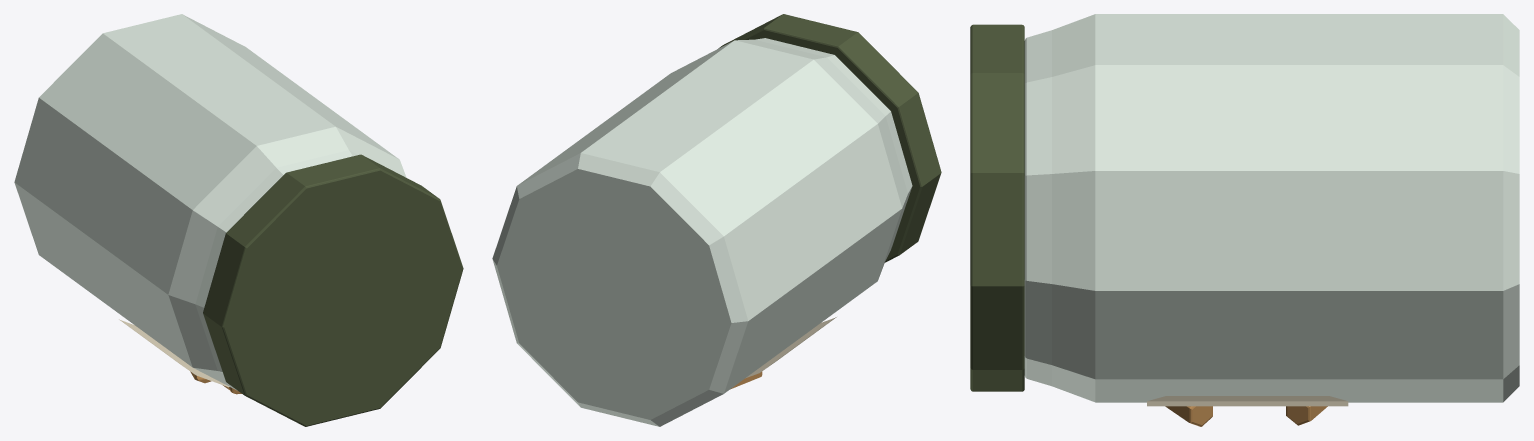
Rendered from cashew_butter.glb.
3 views of the same model, side by side, from view 1: azimuth 30°, elevation 25°; view 2: azimuth 150°, elevation 25°; view 3: azimuth 270°, elevation 25° (orthographic). The views are drawn at different scales.
Parts seen in each view (by area): view 1: cashew_butter; view 2: cashew_butter; view 3: cashew_butter.
Part boxes in pixels (x1,y1,x2,y2): cashew_butter: (14,14,463,426); cashew_butter: (492,14,941,426); cashew_butter: (970,14,1519,426).
Bounding box in the file's own units: 0.072 × 0.0752 × 0.101.
